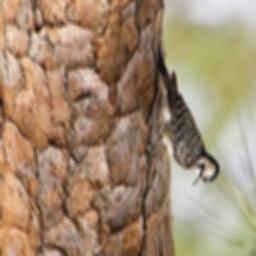Woodpecker: (145, 38, 220, 186)
